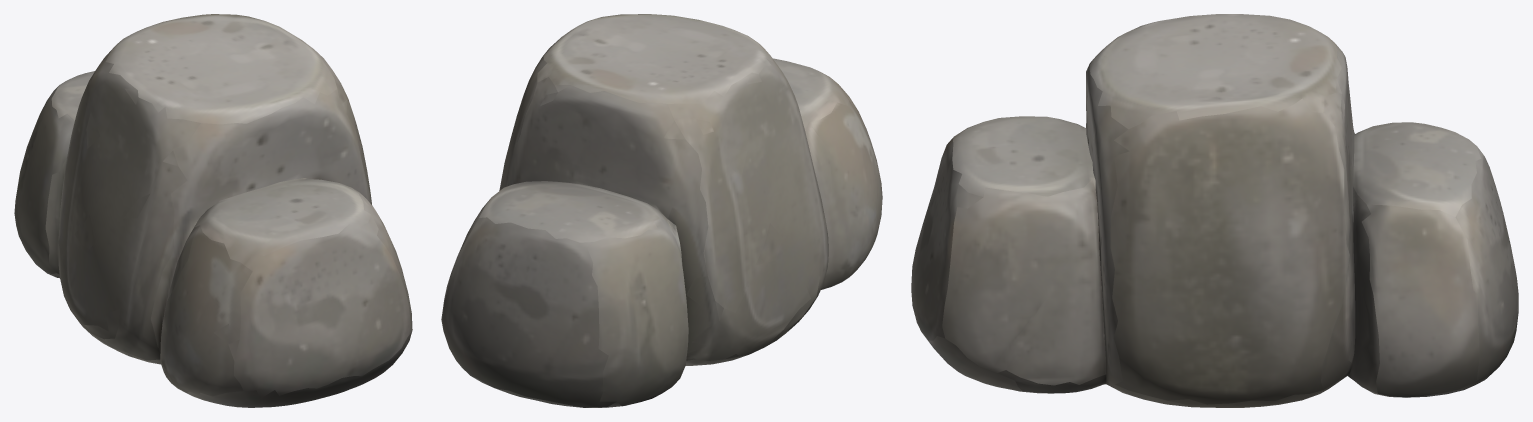
The model's file is ENV-10.glb.
3 renders of one model, left to right at view 1: azimuth 30°, elevation 25°; view 2: azimuth 150°, elevation 25°; view 3: azimuth 270°, elevation 25°, orthographic. The views are drawn at different scales.
Visible parts, largest first — view 1: ENV-10; view 2: ENV-10; view 3: ENV-10.
Part boxes in pixels (x1,y1,x2,y2): ENV-10: (14, 14, 412, 407); ENV-10: (441, 14, 882, 407); ENV-10: (911, 14, 1518, 407).
Size of the model in its own units: 0.6746 by 0.65 by 1.21.
Materials: 1 (1 with a texture image).
